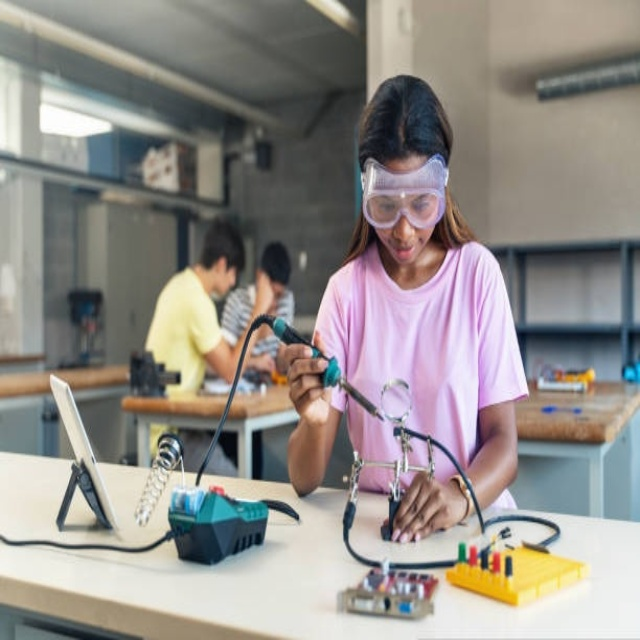Gafas: (361, 154, 449, 231)
Sin_guantes: (392, 464, 462, 547), (279, 329, 336, 427)
Sin_mascara: (386, 235, 427, 268)
